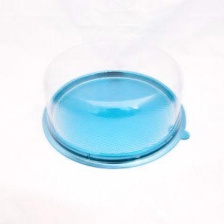plastic_box: (30, 25, 197, 172)
